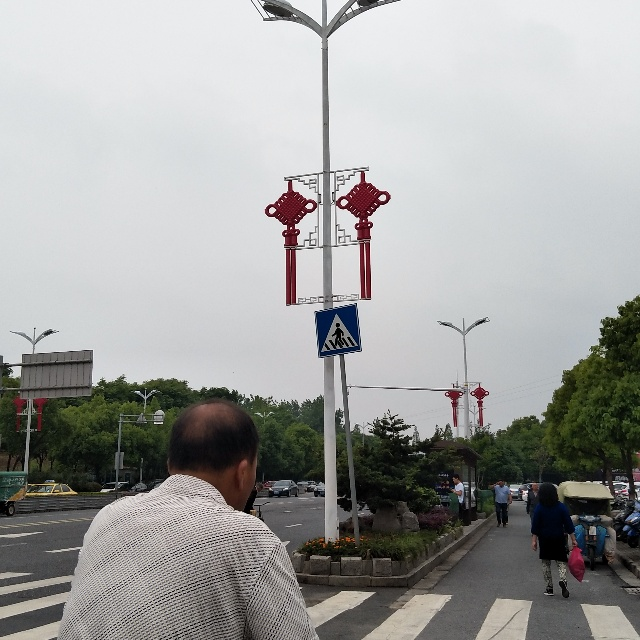crosswalk: (313, 303, 363, 359)
